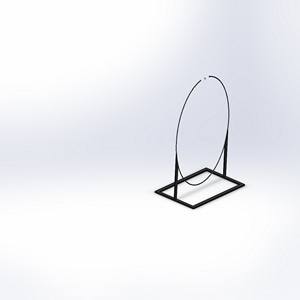circle: (154, 74, 244, 209)
